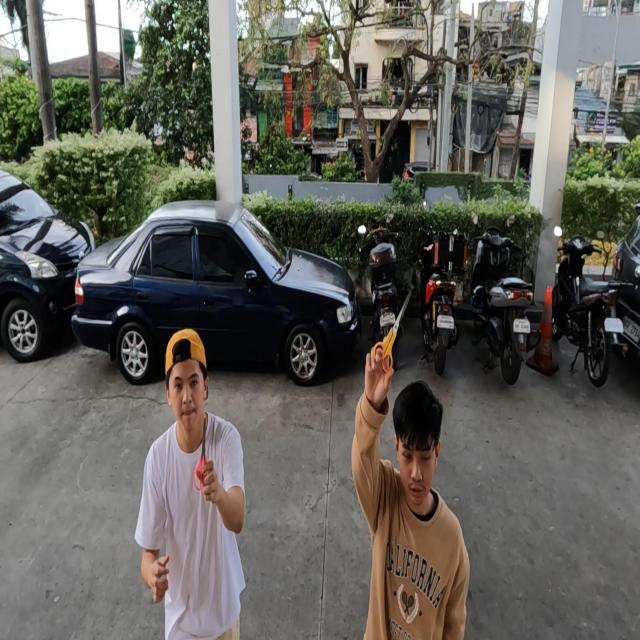scissor: (374, 289, 412, 373), (193, 416, 210, 493)
